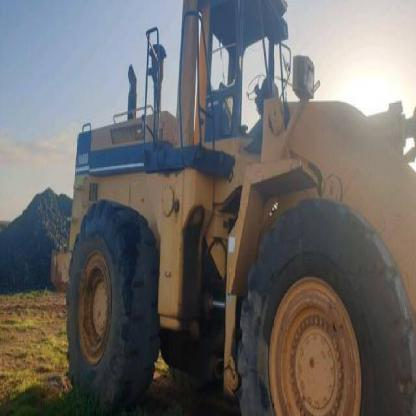bull_dozer/loader/grader: (56, 4, 415, 415)
